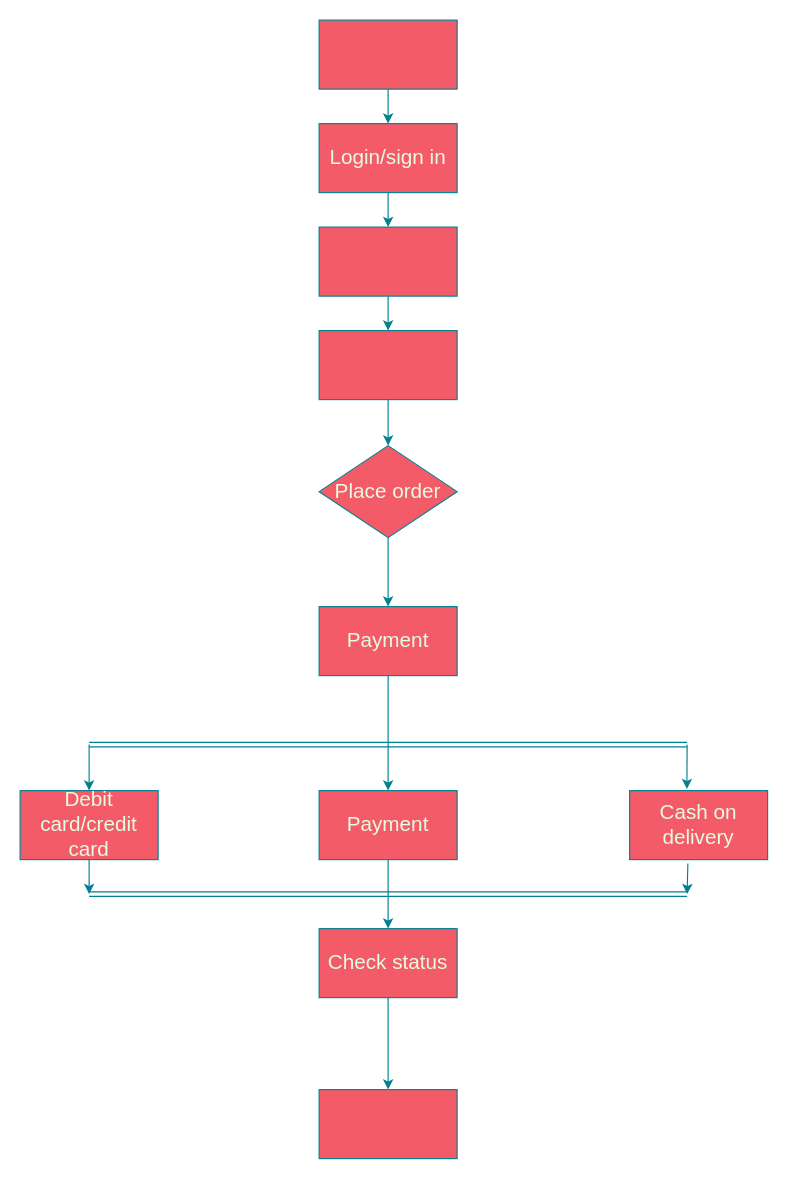
The diagram is 788 pixels wide and 1179 high, and some of its shapes have lost their labels. Each missing label, with the centre of its shape:
"open app/website" goes at pixel 387 54.
"Receive food" goes at pixel 387 1123.
"Search food" goes at pixel 387 261.
"Select dish" goes at pixel 387 364.
